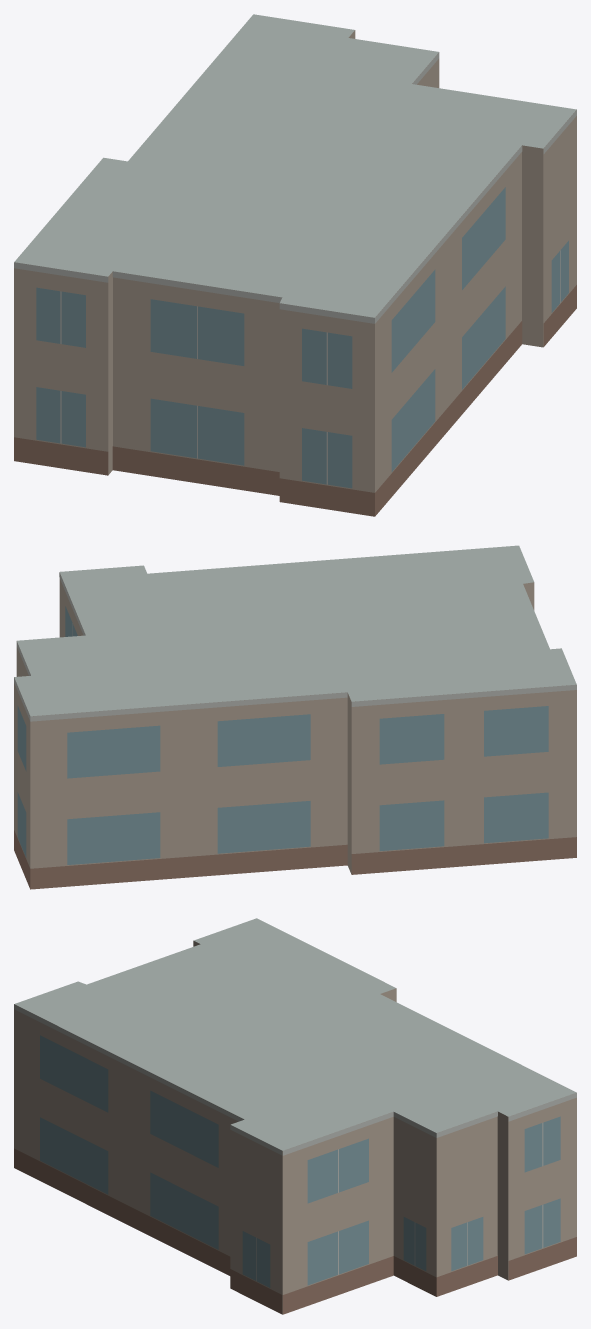
Rendered from survey-upis-32942410.glb.
The picture shows the model from 3 angles, top to bottom: view 1: azimuth 30°, elevation 25°; view 2: azimuth 150°, elevation 25°; view 3: azimuth 270°, elevation 25°; orthographic projection. The views are drawn at different scales.
Visible parts, largest first — view 1: survey-upis-32942410.tmp; view 2: survey-upis-32942410.tmp; view 3: survey-upis-32942410.tmp.
Part boxes in pixels (<box>): survey-upis-32942410.tmp: <box>14,14,576,516</box>; survey-upis-32942410.tmp: <box>14,545,576,889</box>; survey-upis-32942410.tmp: <box>14,918,576,1314</box>.
Size of the model in its own units: 24.21 by 7.95 by 24.75.
